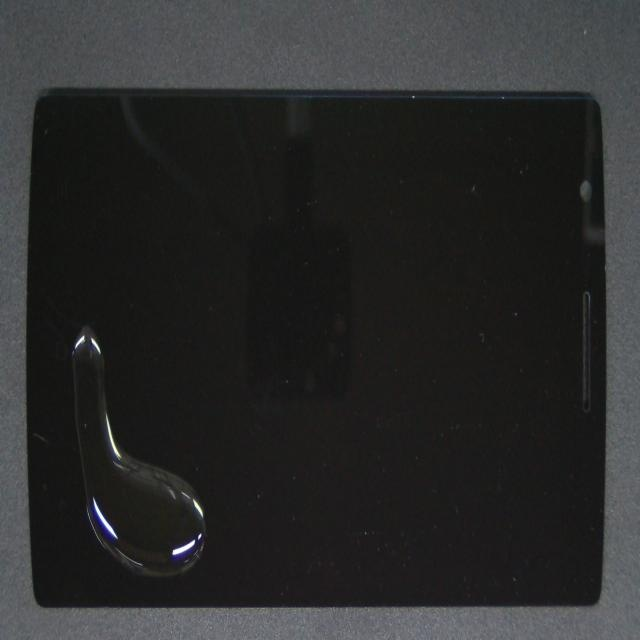oil: (153, 283, 269, 640)
